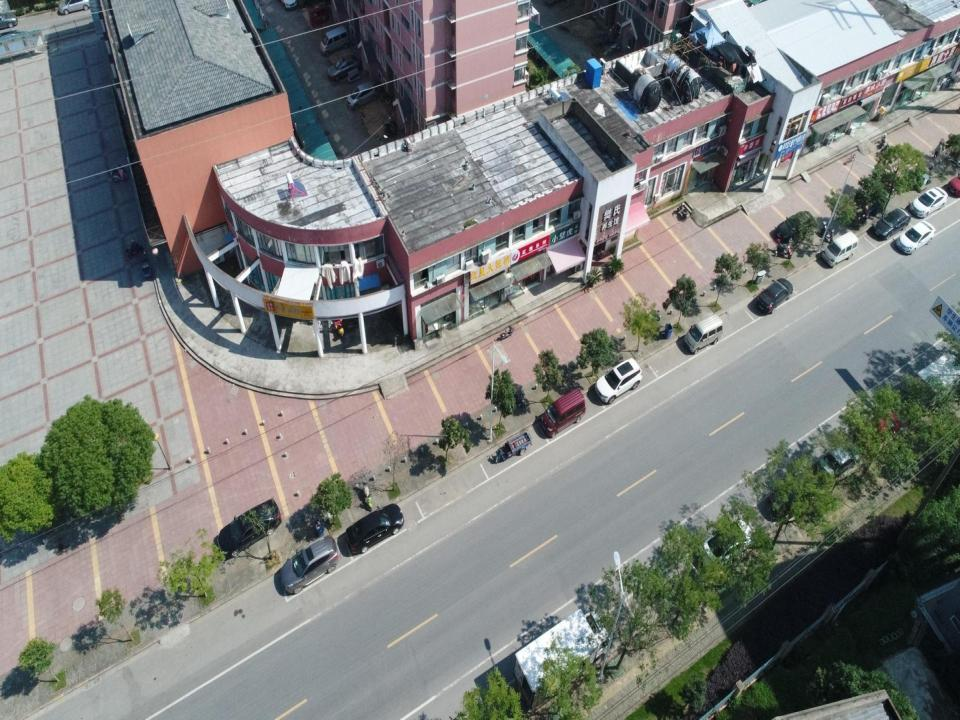car: (217, 498, 282, 558), (280, 534, 339, 595), (345, 503, 405, 556), (699, 519, 753, 572), (594, 357, 643, 404), (768, 474, 818, 520), (817, 441, 860, 485), (857, 411, 901, 451), (775, 210, 818, 246), (756, 277, 794, 315), (896, 220, 936, 255), (872, 207, 912, 240), (910, 187, 948, 218), (346, 80, 378, 110), (327, 54, 360, 82), (58, 0, 94, 15), (948, 168, 960, 199), (0, 12, 18, 30), (277, 0, 297, 11)
truck: (512, 608, 612, 713)
van: (914, 352, 959, 412), (539, 388, 586, 438), (683, 313, 724, 355), (821, 231, 859, 269), (319, 24, 351, 57)
